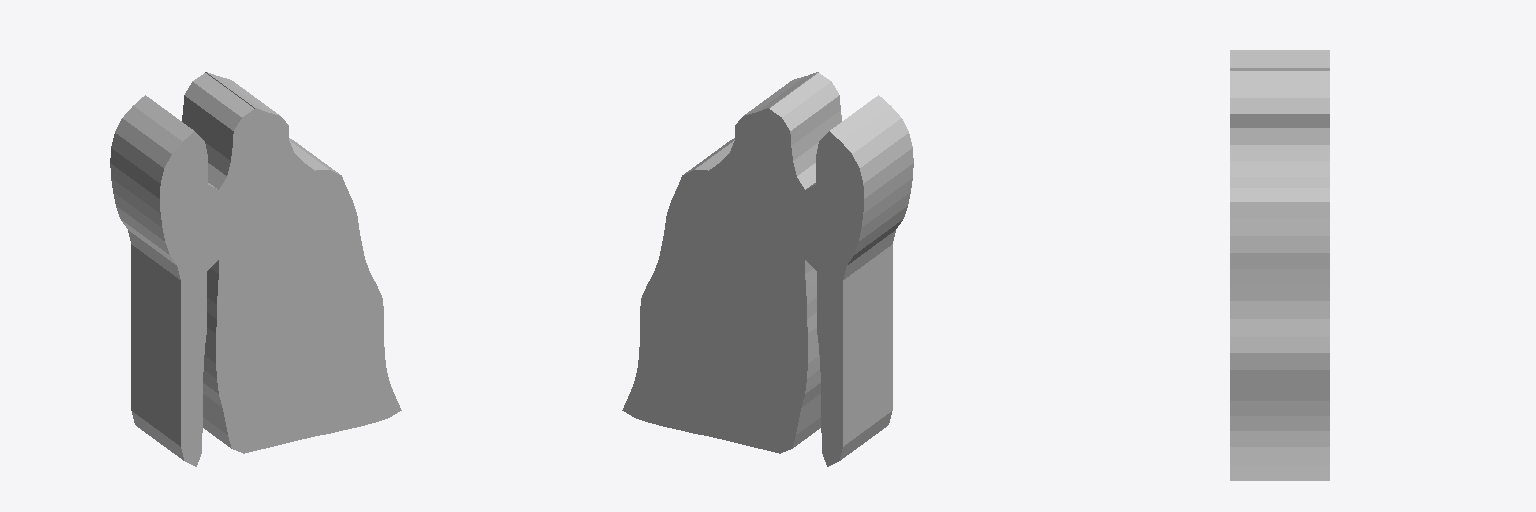
Rendered from traft002.obj.
3 renders of one model, left to right at view 1: azimuth 30°, elevation 25°; view 2: azimuth 150°, elevation 25°; view 3: azimuth 270°, elevation 25°, orthographic.
Size of the model in its own units: 0.5644 by 0.7691 by 0.2.